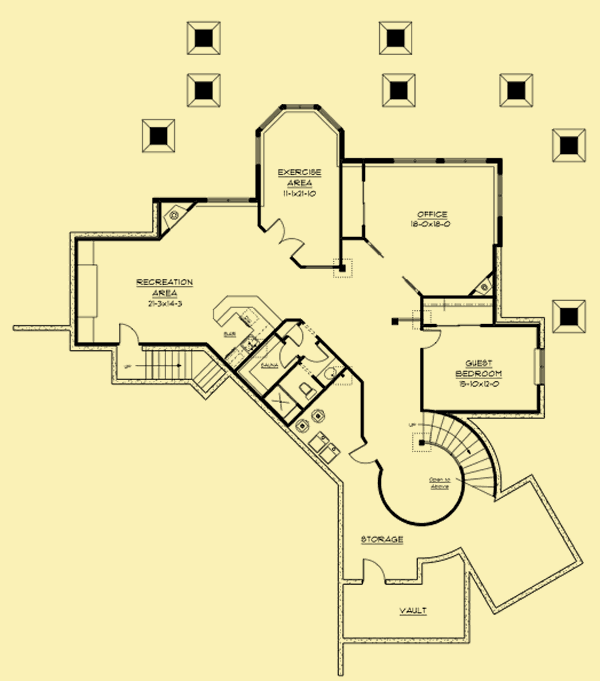door: (263, 215, 310, 261), (356, 557, 390, 588), (343, 442, 374, 467), (117, 320, 146, 346), (279, 341, 300, 374), (302, 343, 332, 364), (420, 325, 444, 350), (288, 327, 306, 347)
stairs: (407, 410, 502, 498), (109, 345, 228, 403)
windows: (387, 155, 490, 169), (531, 344, 551, 387), (495, 167, 509, 225), (279, 100, 325, 116), (246, 134, 267, 167)
